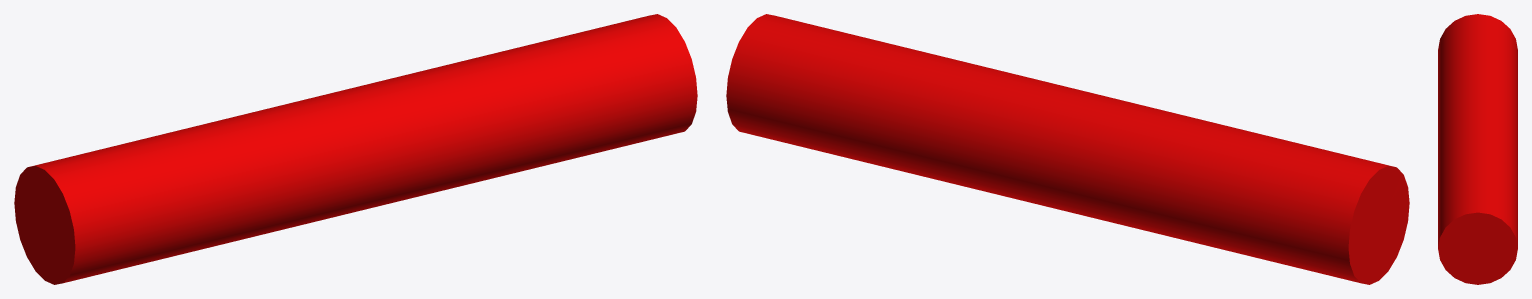
Rendered from Mangueira_Corpo.fbx.
3 renders of one model, left to right at view 1: azimuth 30°, elevation 25°; view 2: azimuth 150°, elevation 25°; view 3: azimuth 270°, elevation 25°, orthographic. The views are drawn at different scales.
Parts seen in each view (by area): view 1: Mangueira_Corpo; view 2: Mangueira_Corpo; view 3: Mangueira_Corpo.
Boxes of the visible parts, <box> form: Mangueira_Corpo: <box>14,14,697,284</box>; Mangueira_Corpo: <box>726,14,1409,284</box>; Mangueira_Corpo: <box>1438,14,1517,284</box>.
Size of the model in its own units: 4 by 0.68 by 0.6798.
